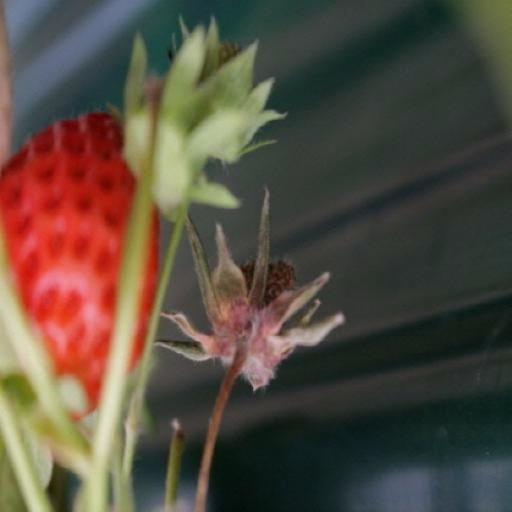Gray Mold: (165, 116, 362, 328)
